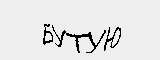Б: (39, 22, 52, 46)
Т: (64, 29, 87, 54)
У: (86, 28, 105, 55), (52, 25, 66, 49)
Ю: (102, 24, 122, 55)
